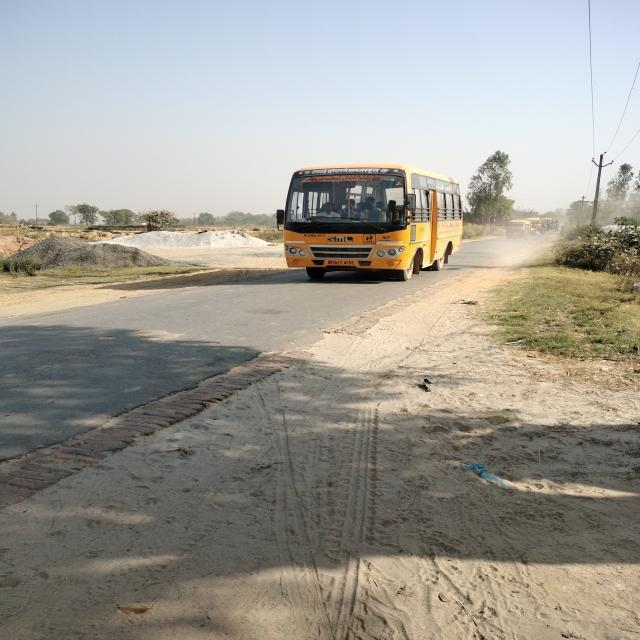bus_front: (270, 158, 470, 286)
